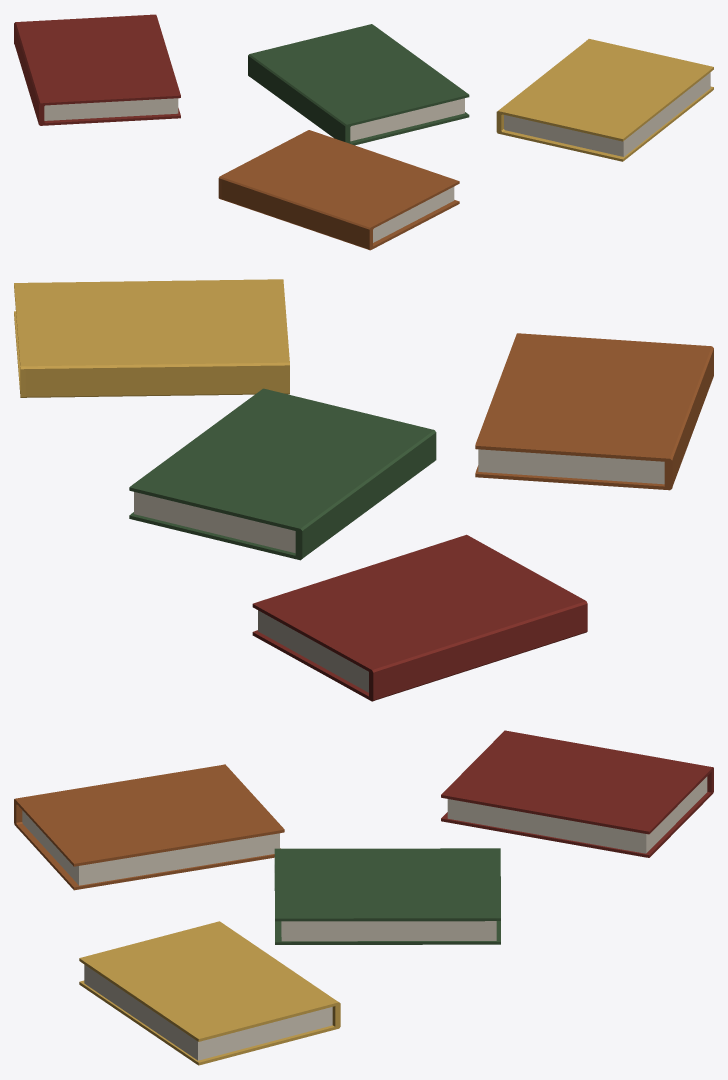
The model's file is livros_chao.glb.
The picture shows the model from 3 angles, top to bottom: view 1: azimuth 30°, elevation 25°; view 2: azimuth 150°, elevation 25°; view 3: azimuth 270°, elevation 25°; orthographic projection. The views are drawn at different scales.
Parts seen in each view (by area): view 1: V_Livro_Caido_2.004, V_Livro_Caido_2.001, V_Livro_Caido_2.003, V_Livro_Caido_2.002; view 2: V_Livro_Caido_2.002, V_Livro_Caido_2.001, V_Livro_Caido_2.003, V_Livro_Caido_2.004; view 3: V_Livro_Caido_2.002, V_Livro_Caido_2.004, V_Livro_Caido_2.003, V_Livro_Caido_2.001.
Boxes of the visible parts, bbox=[...] form: V_Livro_Caido_2.004: bbox=[218, 130, 459, 250]; V_Livro_Caido_2.001: bbox=[248, 24, 469, 145]; V_Livro_Caido_2.003: bbox=[496, 39, 713, 161]; V_Livro_Caido_2.002: bbox=[14, 14, 180, 125]; V_Livro_Caido_2.002: bbox=[252, 534, 587, 701]; V_Livro_Caido_2.001: bbox=[129, 388, 436, 560]; V_Livro_Caido_2.003: bbox=[14, 279, 289, 397]; V_Livro_Caido_2.004: bbox=[475, 333, 713, 490]; V_Livro_Caido_2.002: bbox=[441, 730, 713, 857]; V_Livro_Caido_2.004: bbox=[14, 764, 284, 890]; V_Livro_Caido_2.003: bbox=[79, 921, 340, 1065]; V_Livro_Caido_2.001: bbox=[274, 848, 500, 944].
Bounding box in the file's own units: 1.07 × 0.0424 × 1.02.
